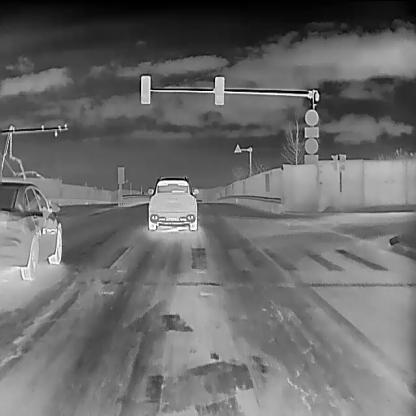car: (0, 180, 62, 281), (147, 174, 199, 230)
